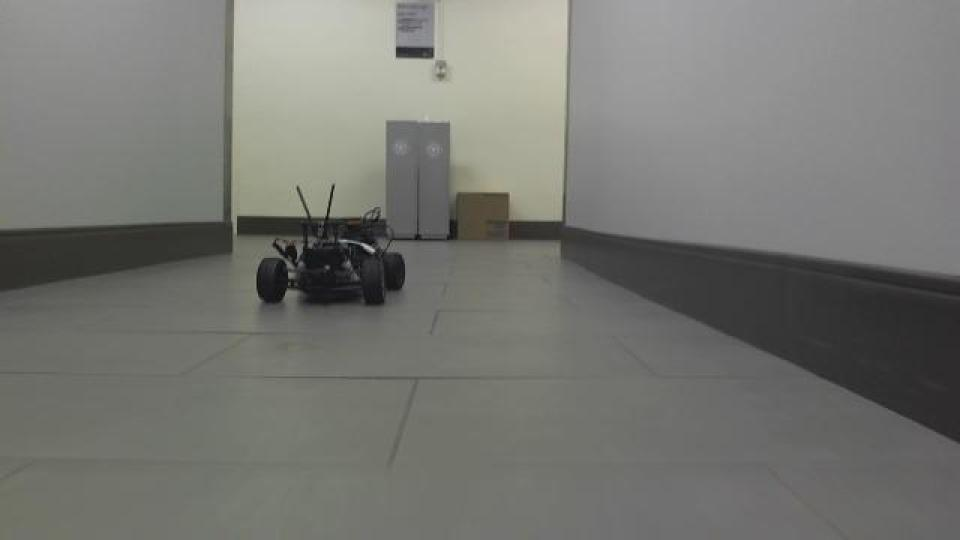car: (252, 180, 408, 309)
